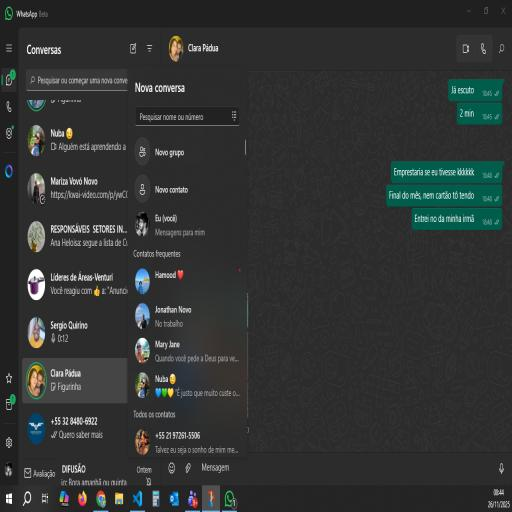mensagem-enviada: (390, 161, 504, 183)
